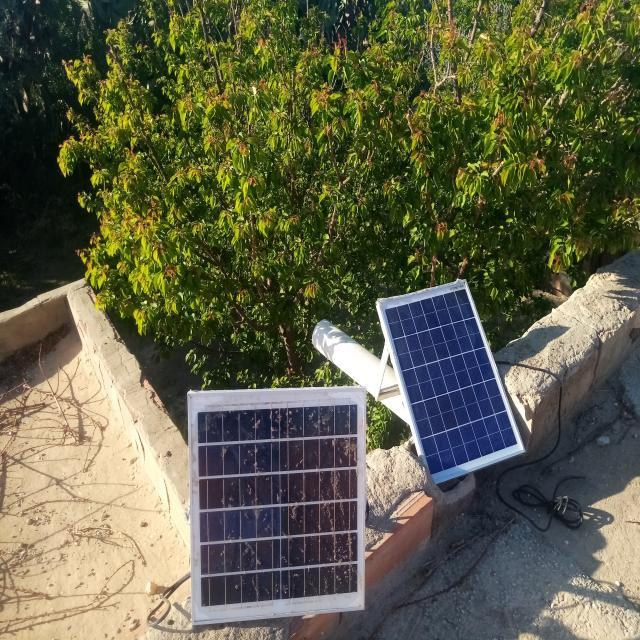faulty: (189, 387, 366, 626)
no faulty: (377, 280, 525, 481)
